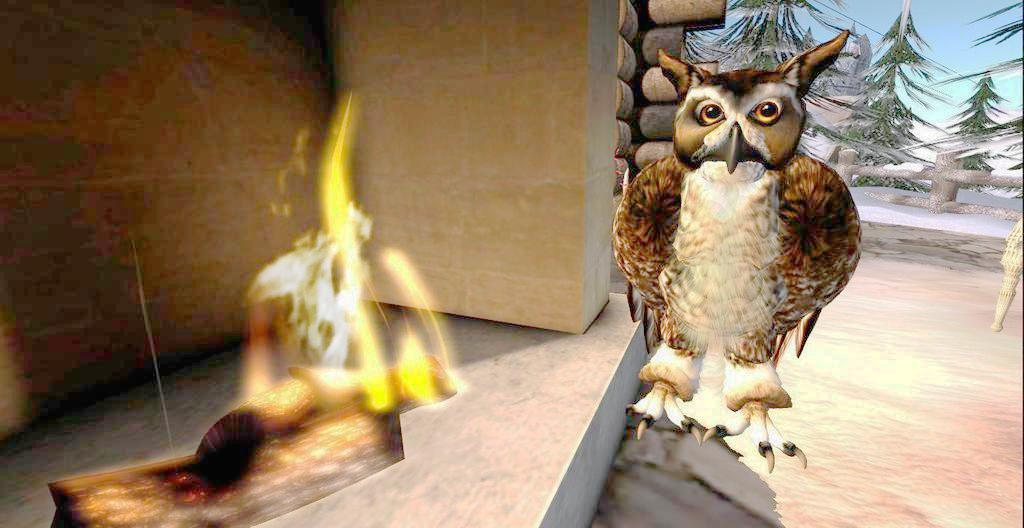Owl: (606, 28, 866, 478)
